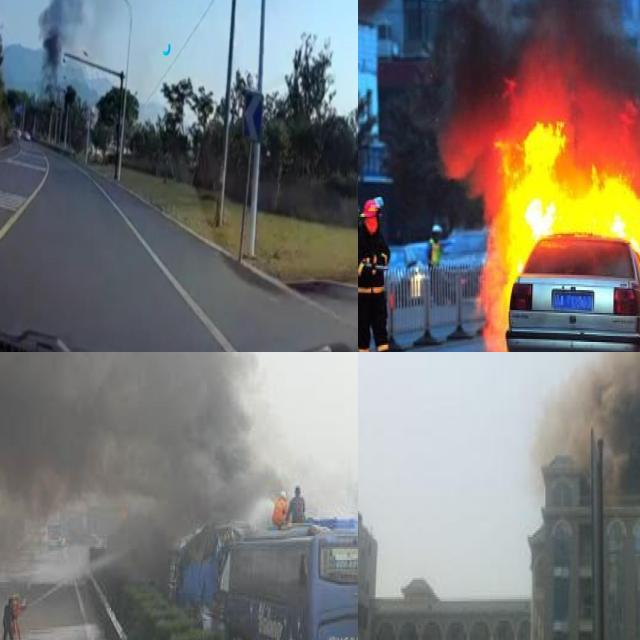fire: (479, 100, 640, 352)
smoke: (0, 352, 290, 528), (358, 0, 640, 146), (527, 352, 640, 500), (36, 0, 86, 91)
